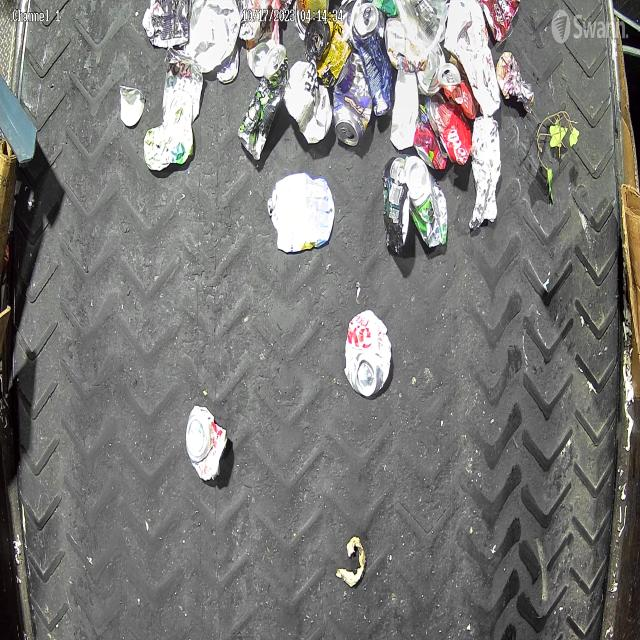can: (345, 310, 392, 397), (405, 156, 447, 248), (334, 53, 372, 146), (304, 14, 352, 85), (186, 406, 228, 482), (352, 2, 385, 77), (264, 44, 288, 84), (246, 42, 270, 78)
